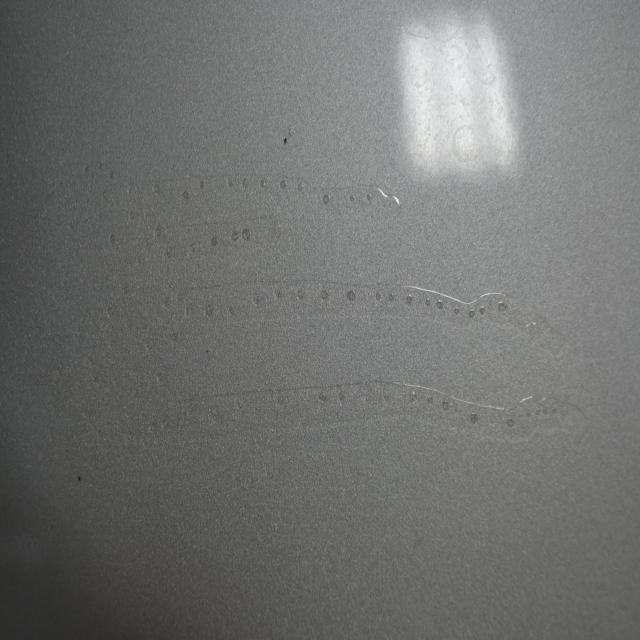dirt: (281, 133, 290, 150), (74, 470, 83, 487)
runs: (68, 169, 571, 382)
water marks: (402, 39, 459, 127), (462, 37, 501, 90), (448, 121, 483, 169)
